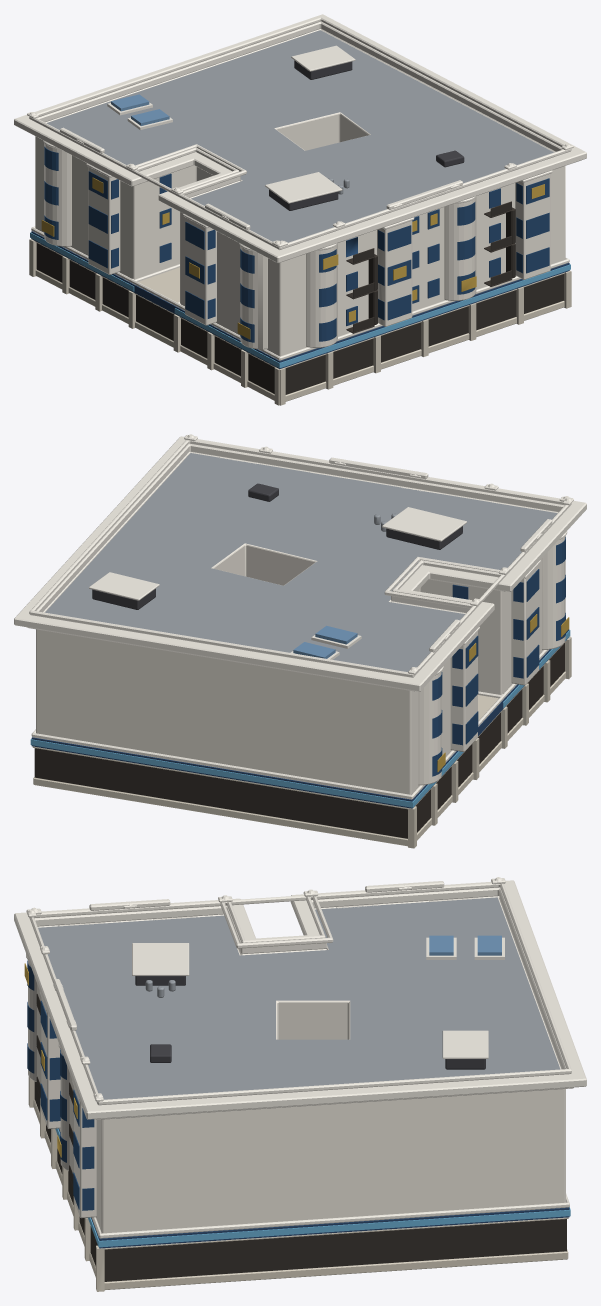
The model's file is 500-van-ness.glb.
3 views of the same model, one above another, from view 1: azimuth 30°, elevation 25°; view 2: azimuth 150°, elevation 25°; view 3: azimuth 270°, elevation 25° (orthographic). The views are drawn at different scales.
Visible parts, largest first — view 1: grp_Toy_cream_Toy_steel, grp_Toy_trim, grp_Toy_cream, grp_Toy_ink, grp_Toy_glass, grp_Toy_stone, grp_Toy_sky_Glow, grp_Toy_navy, grp_Toy_gold_Glow, grp_Toy_roofd, grp_Toy_glassl; view 2: grp_Toy_cream_Toy_steel, grp_Toy_trim, grp_Toy_ink, grp_Toy_stone, grp_Toy_cream, grp_Toy_glass, grp_Toy_sky_Glow, grp_Toy_navy, grp_Toy_roofd, grp_Toy_glassl; view 3: grp_Toy_cream_Toy_steel, grp_Toy_trim, grp_Toy_ink, grp_Toy_stone, grp_Toy_cream, grp_Toy_sky_Glow, grp_Toy_glass, grp_Toy_navy, grp_Toy_roofd, grp_Toy_glassl.
Part boxes in pixels (x1,y1,x2,y2): grp_Toy_cream_Toy_steel: (35,30,565,394); grp_Toy_trim: (14,14,586,360); grp_Toy_cream: (44,143,550,349); grp_Toy_ink: (36,201,563,394); grp_Toy_glass: (44,146,549,342); grp_Toy_stone: (29,239,571,405); grp_Toy_sky_Glow: (30,232,570,368); grp_Toy_navy: (31,231,569,368); grp_Toy_gold_Glow: (41,177,544,339); grp_Toy_roofd: (269,60,464,210); grp_Toy_glassl: (111,94,169,125); grp_Toy_cream_Toy_steel: (36,453,563,838); grp_Toy_trim: (14,434,586,799); grp_Toy_ink: (34,643,564,838); grp_Toy_stone: (32,636,571,848); grp_Toy_cream: (222,457,565,785); grp_Toy_glass: (432,537,565,776); grp_Toy_sky_Glow: (30,630,570,807); grp_Toy_navy: (31,629,569,808); grp_Toy_roofd: (92,483,462,609); grp_Toy_glassl: (293,625,357,658); grp_Toy_cream_Toy_steel: (38,897,565,1281); grp_Toy_trim: (14,877,586,1238); grp_Toy_ink: (34,994,566,1281); grp_Toy_stone: (28,1076,568,1291); grp_Toy_cream: (28,897,475,1218); grp_Toy_sky_Glow: (40,1083,570,1247); grp_Toy_glass: (27,960,94,1210); grp_Toy_navy: (58,1128,569,1248); grp_Toy_roofd: (135,976,485,1069); grp_Toy_glassl: (429,935,501,955).
Size of the model in its own units: 43.29 by 17 by 45.1.
